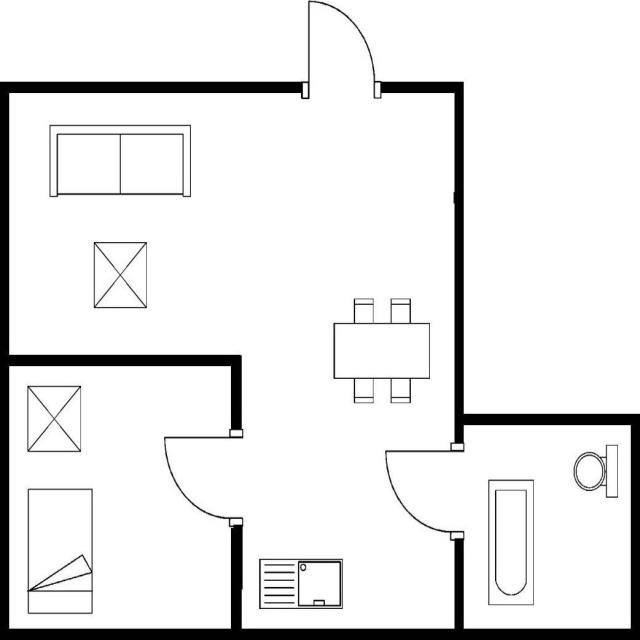bed: (24, 483, 96, 618)
coffee_table: (90, 238, 150, 314), (24, 382, 84, 454)
dining_table: (331, 294, 434, 408)
large_sink: (570, 441, 620, 503)
large_sofa: (46, 120, 195, 202)
sink: (257, 556, 345, 612)
tub: (483, 476, 538, 610)
